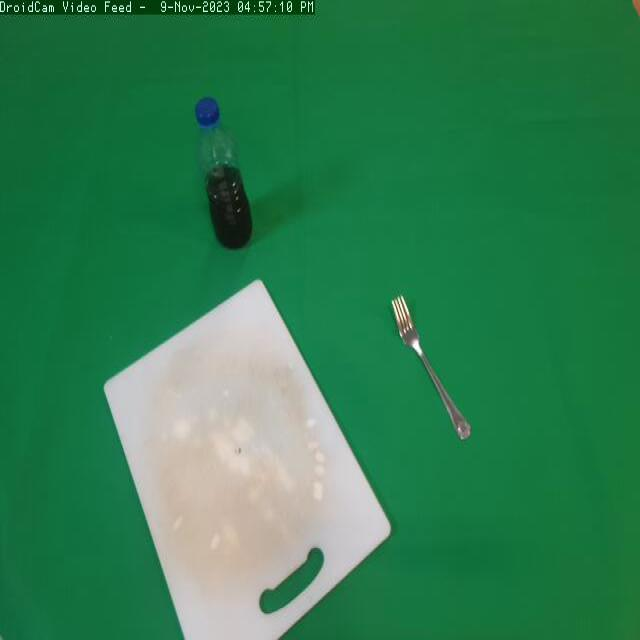cutting board: (84, 276, 395, 640)
fork: (381, 279, 497, 455)
fullbottle: (182, 87, 266, 272)
